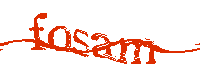a: (90, 32, 116, 60), (48, 24, 71, 53)
f: (29, 12, 47, 52)
m: (117, 37, 156, 65)
s: (72, 27, 89, 58)
